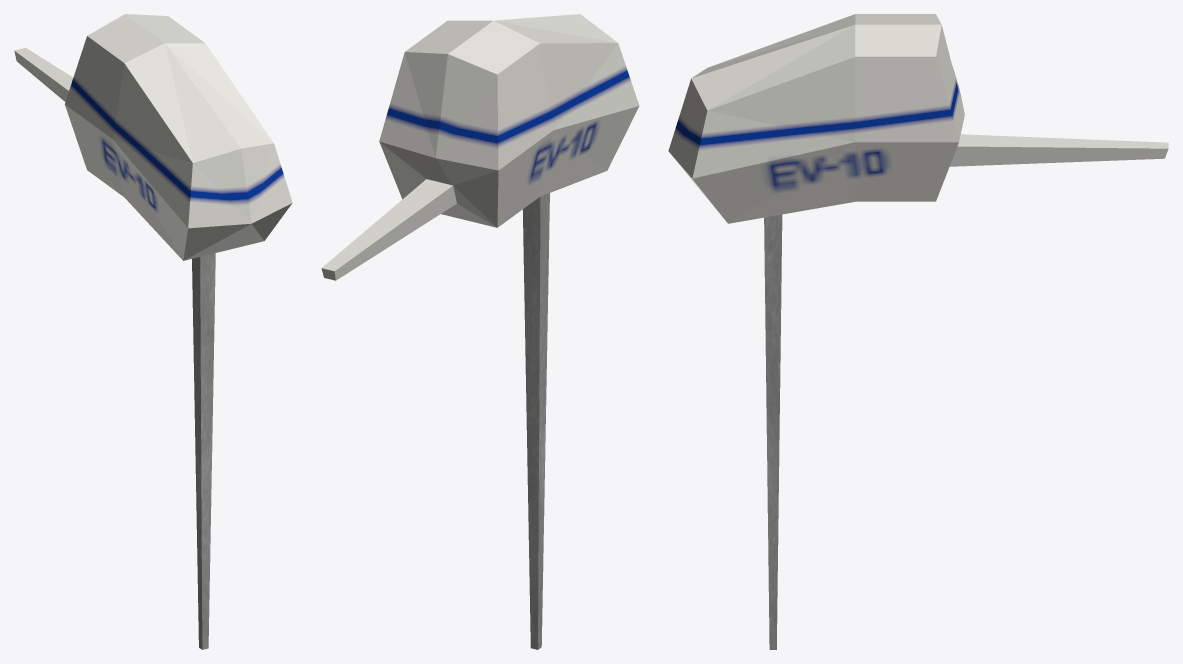
Rendered from co_BoatMotor.fbx.
3 views of the same model, side by side, from view 1: azimuth 30°, elevation 25°; view 2: azimuth 150°, elevation 25°; view 3: azimuth 270°, elevation 25° (orthographic). The views are drawn at different scales.
Visible parts, largest first — view 1: BoatMotor; view 2: BoatMotor; view 3: BoatMotor.
Boxes of the visible parts, <box> form: BoatMotor: <box>14,14,292,649</box>; BoatMotor: <box>321,14,639,649</box>; BoatMotor: <box>668,14,1168,649</box>.
Bounding box in the file's own units: 219 × 1155 × 840.
